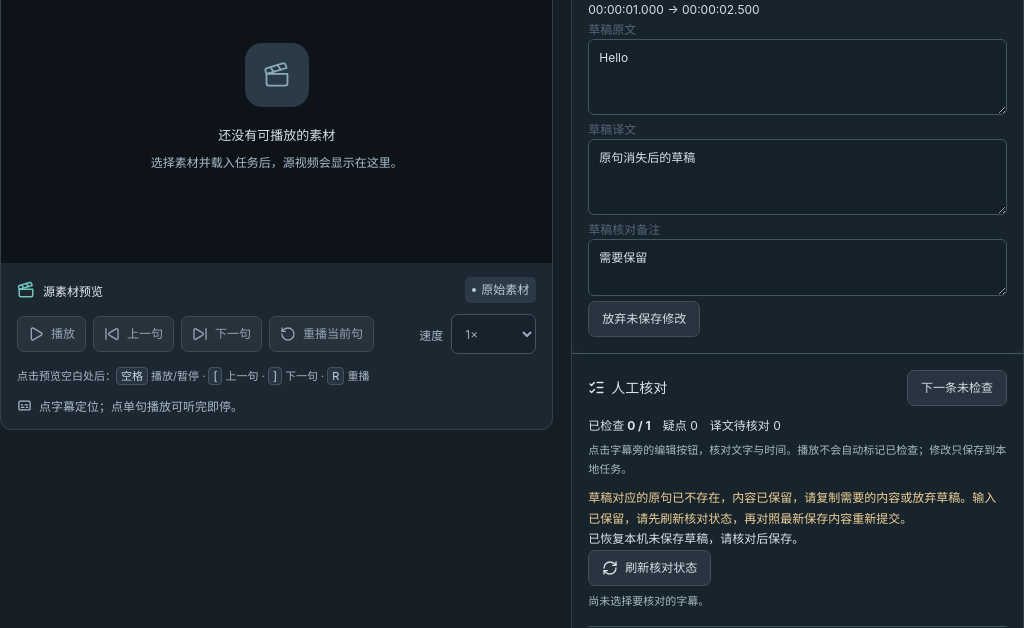
Test: persisted review drafts in the preview › keeps an orphaned cue's text visible and recoverable until explicit discard
This screenshot has width=1024, height=628.
(page scrolled)
Expected: the text box labelled "草稿译文" holds "原句消失后的草稿", [588, 139, 1007, 215]
Expected: the text box labelled "草稿核对备注" holds "需要保留", [588, 239, 1007, 296]
Click the button "放弃未保存修改": (644, 319) [588, 301, 700, 337]
(page scrolled)
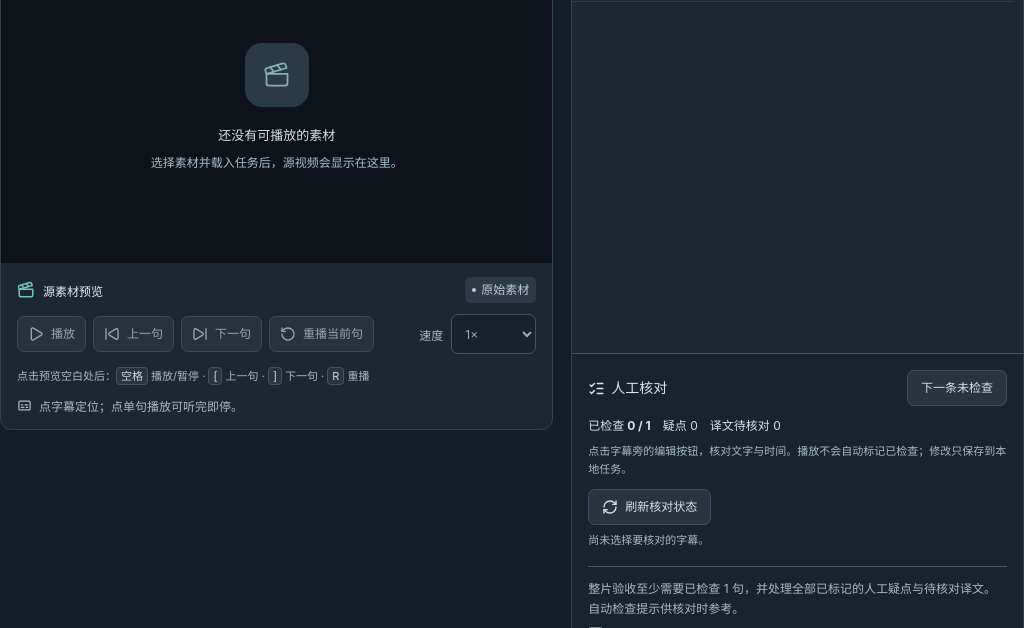
Now the label labelled "草稿译文" is gone
